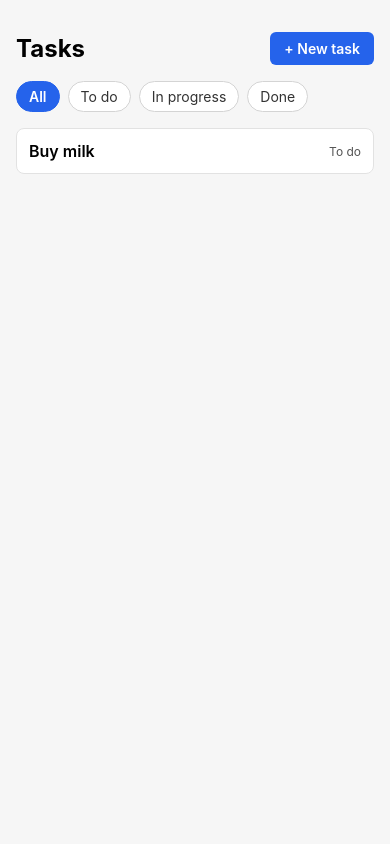
Scenario: TasksScreen › shows a generic message for other errors
Click the text "Buy milk".
click(62, 151)  # box [29,141,95,161]
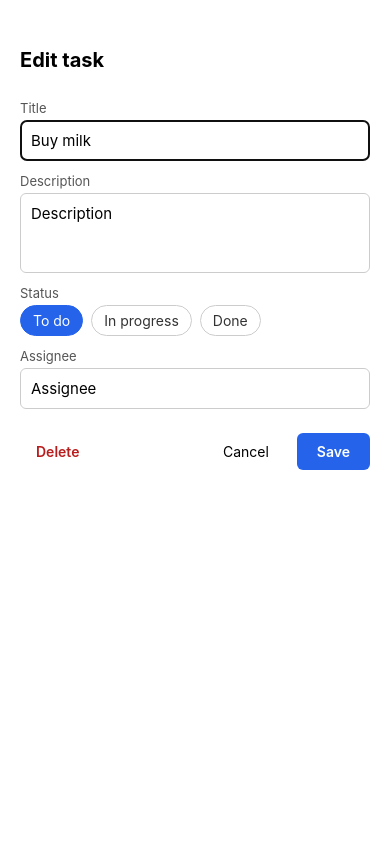
Expected: the text "Edit task" is shown, [20,48,104,72]
Click the text "Save".
click(333, 452)  # box [317,443,350,460]
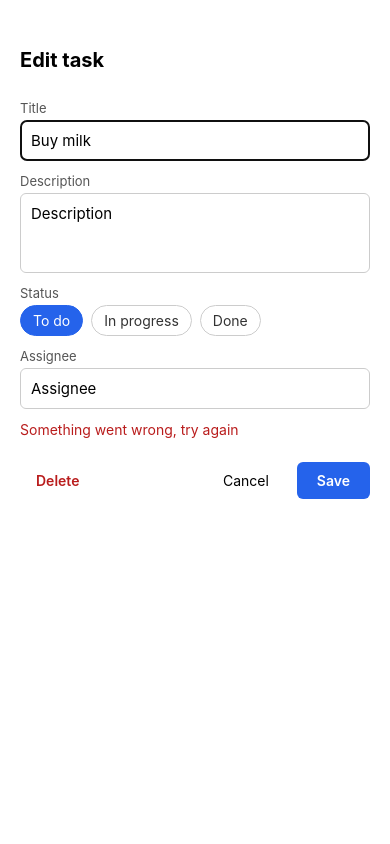
Expected: the text "Something went wrong, try again" is shown, [20,421,239,438]
